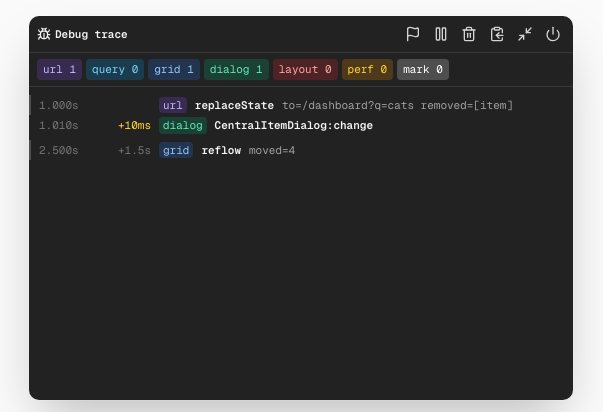
Scenario: DebugPanel › expands a row to show its full data, including the stack
Click the text "replaceState" at (234, 105), box [195,96,274,113]
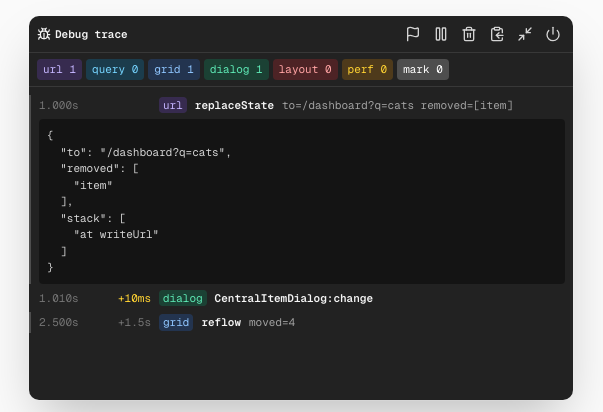
Now the text "\"at writeUrl\"" is shown, box [47,128,232,274]
